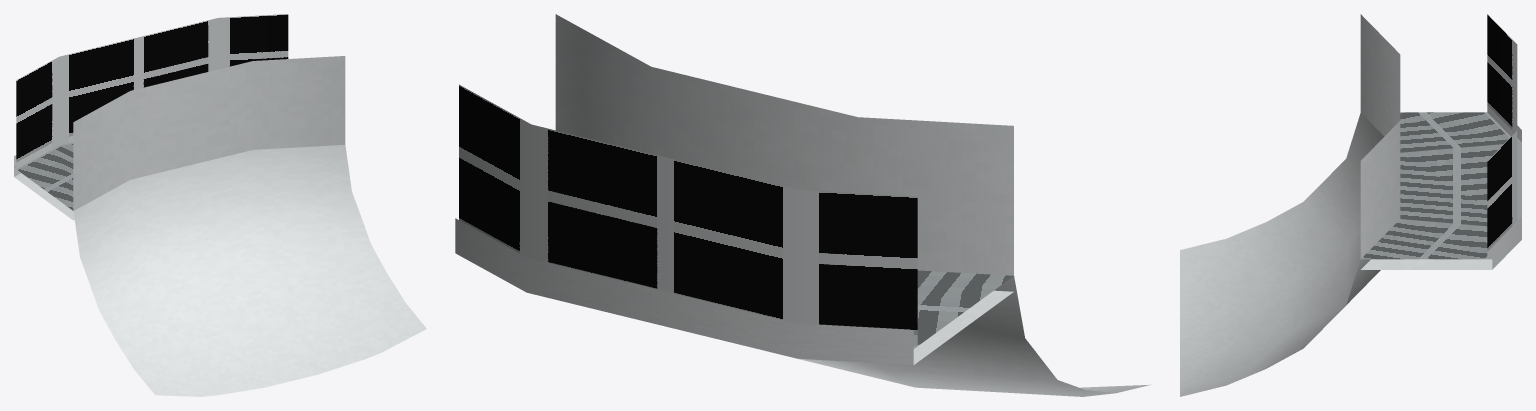
The model's file is bowl_small_0_1_0.obj.
3 renders of one model, left to right at view 1: azimuth 30°, elevation 25°; view 2: azimuth 150°, elevation 25°; view 3: azimuth 270°, elevation 25°, orthographic. The views are drawn at different scales.
Visible parts, largest first — view 1: bowl_small_0_1_0; view 2: bowl_small_0_1_0; view 3: bowl_small_0_1_0.
Part boxes in pixels (left/top/right/bottom): bowl_small_0_1_0: left=14, top=14, right=426, bottom=396; bowl_small_0_1_0: left=455, top=14, right=1150, bottom=396; bowl_small_0_1_0: left=1180, top=14, right=1521, bottom=396.
Bounding box in the file's own units: 3 × 2.45 × 2.95.
